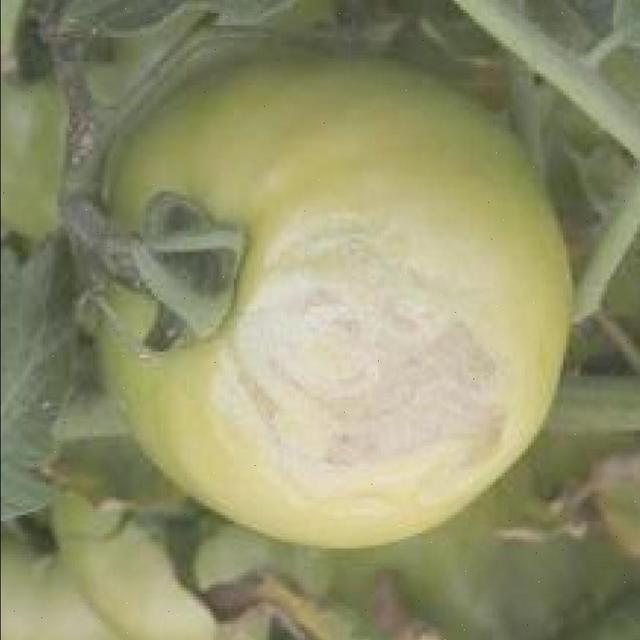Sunscald Fruit: (128, 148, 338, 348)
